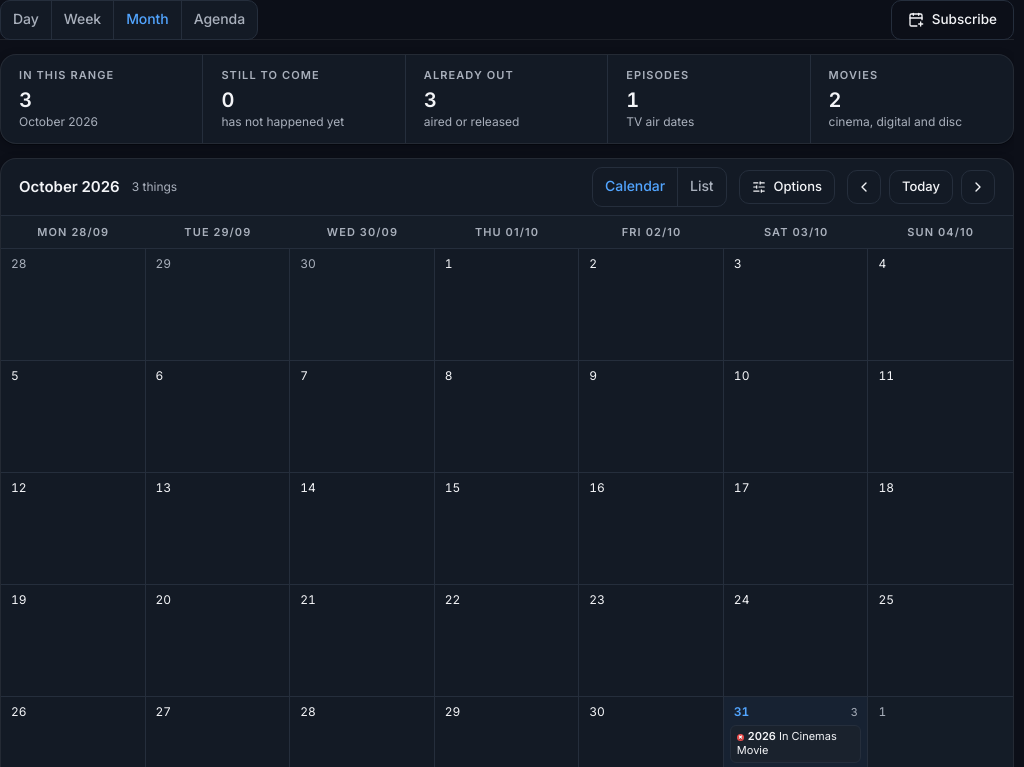
Test: Calendar release-type switches hide only their own type › hides in-cinemas releases when that switch is off and keeps the digital one
Click the radio button labelled "List": [702, 186] box [678,168,726,206]
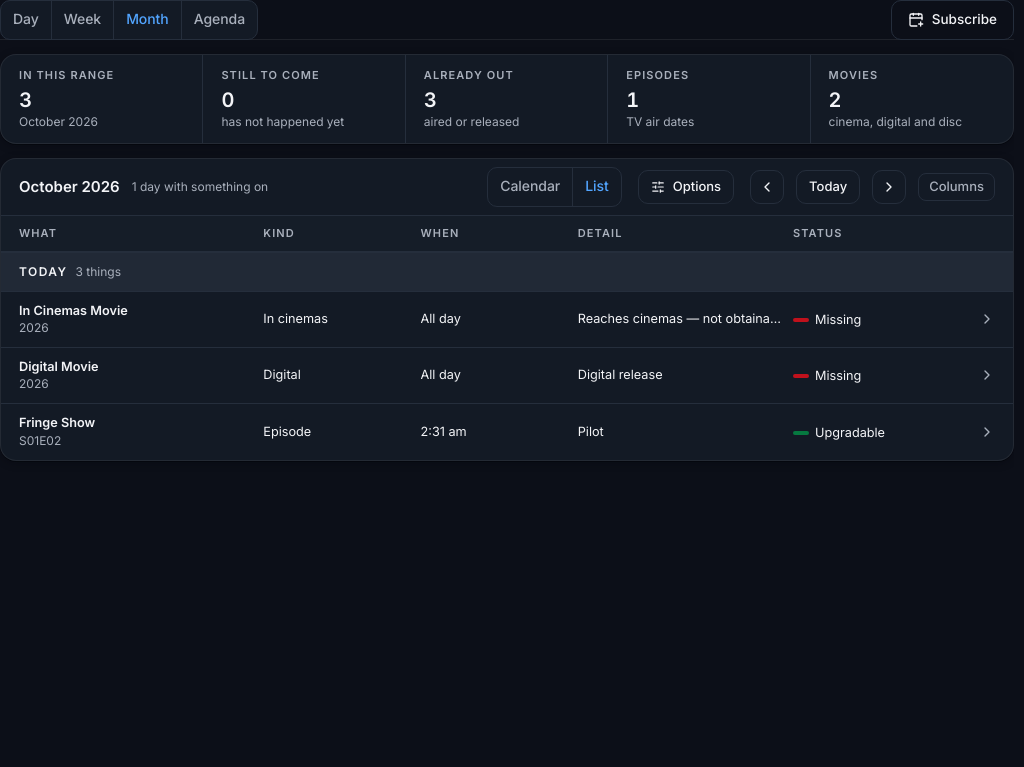
Click the button "Options": [686, 186] box [638,170,734,204]
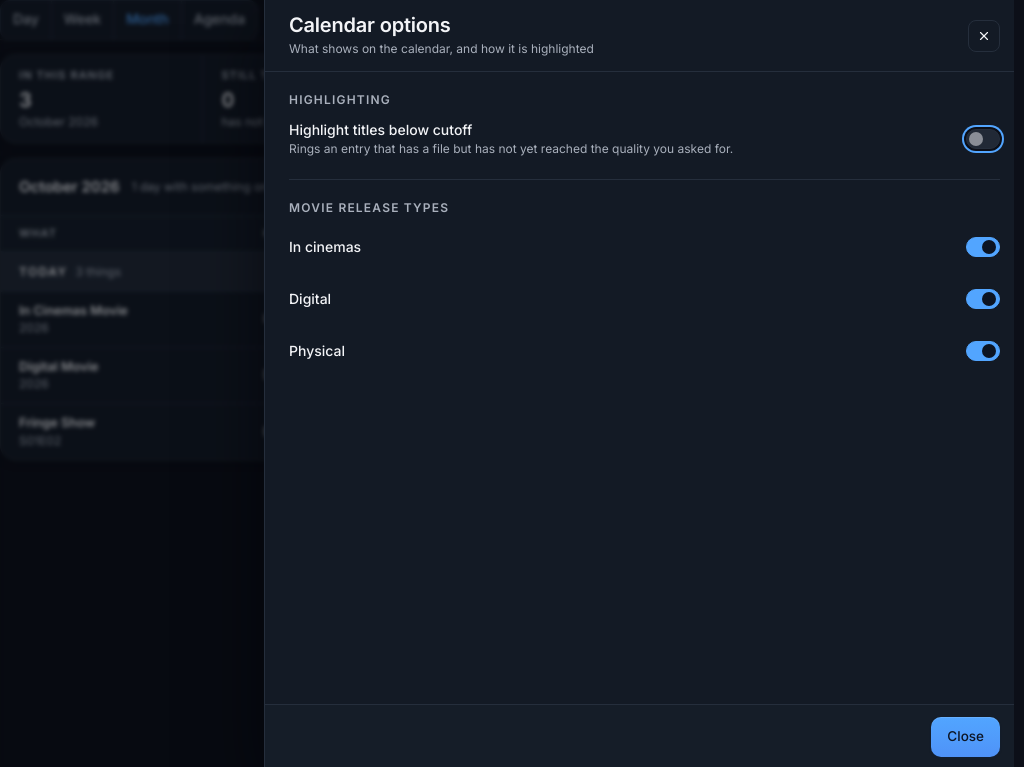
Click the 2nd switch named "In cinemas": [983, 247] box [966,237,1000,257]
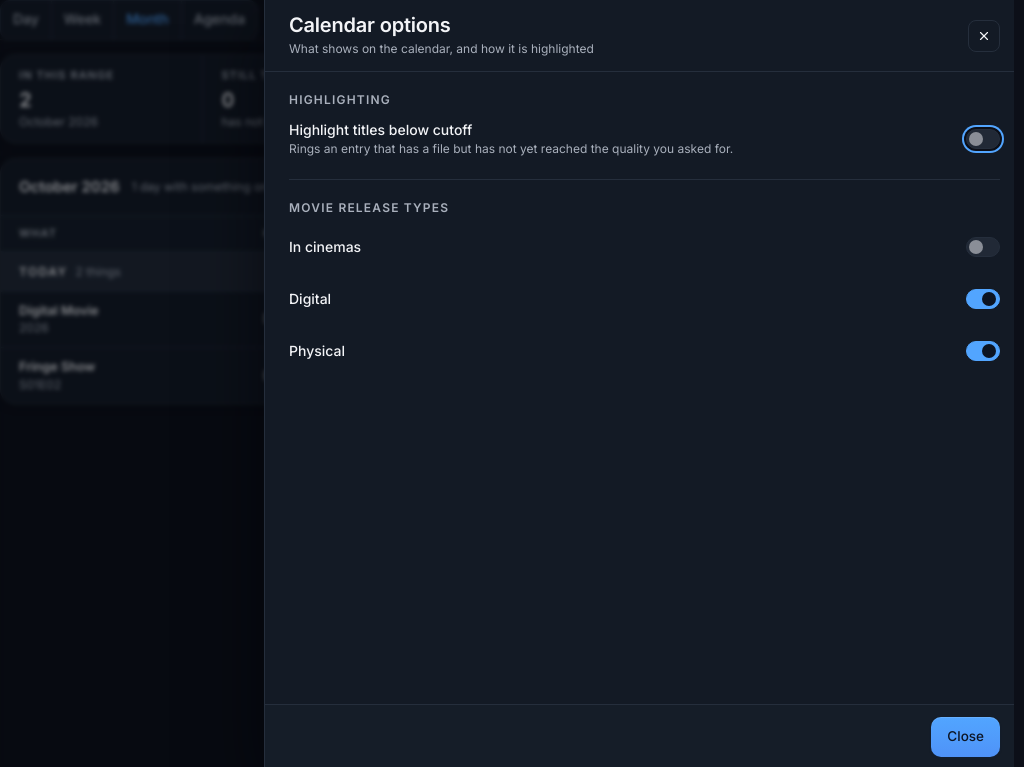
Expected: the text "Digital Movie" is shown, [19,303,98,318]
Expected: the text "In Cinemas Movie" is gone
